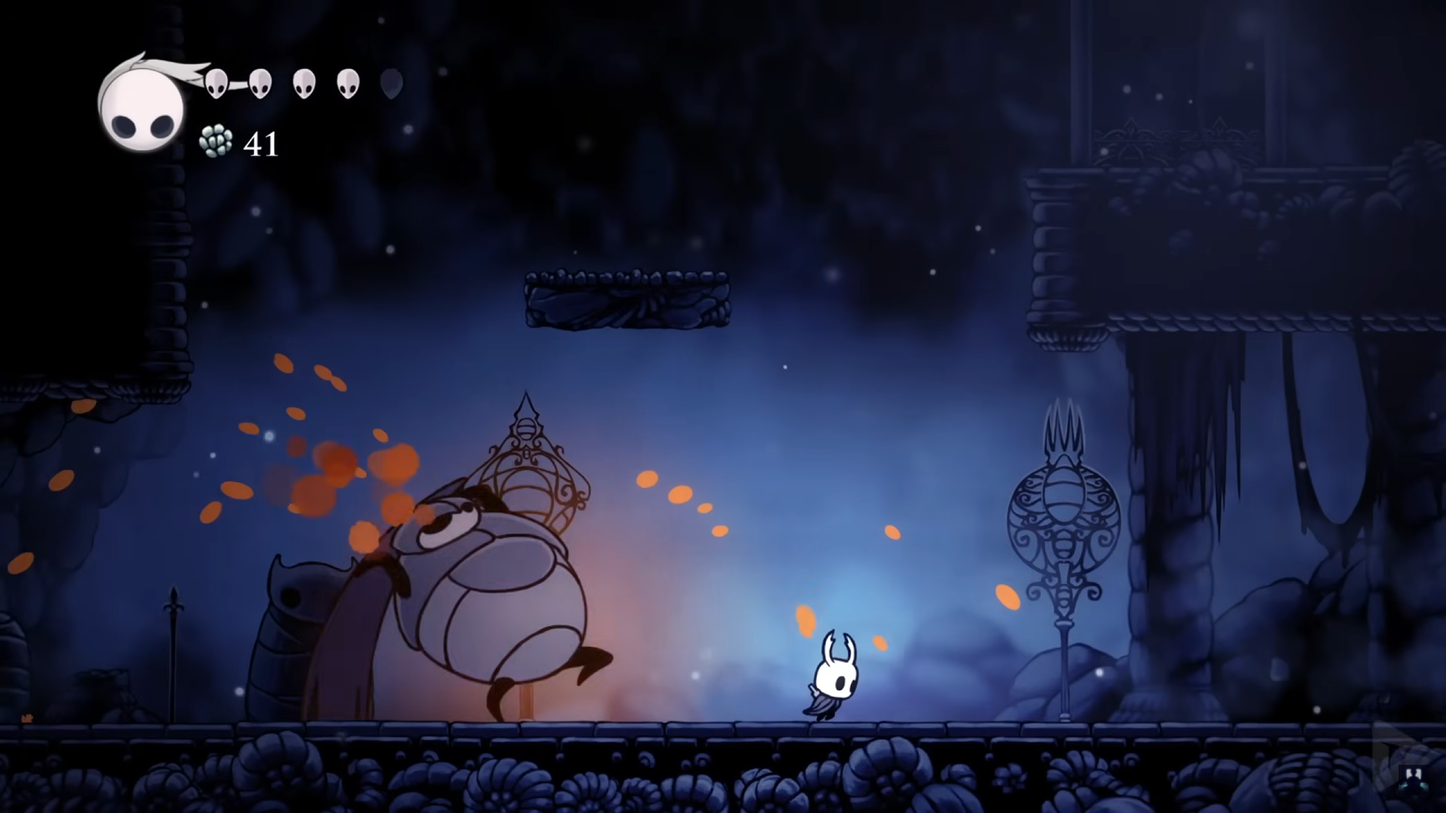HK: (799, 629, 864, 723)
